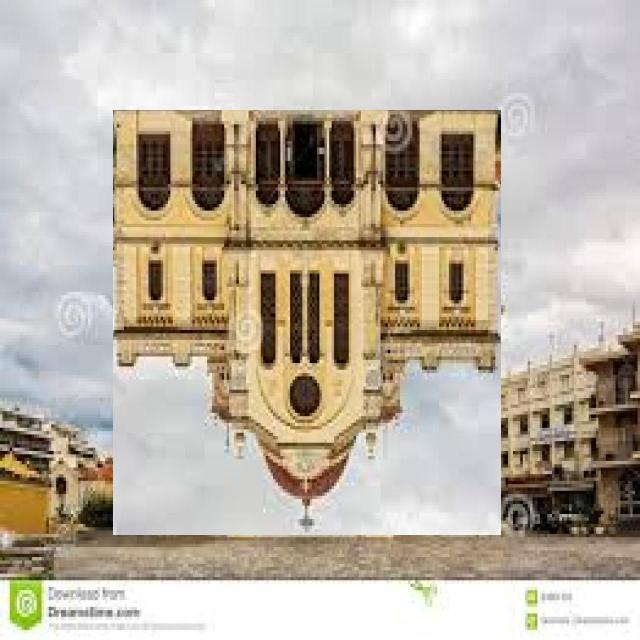Agios Minas: (115, 111, 503, 536)
